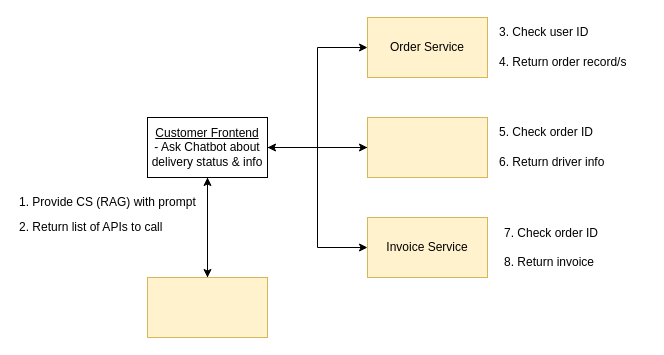
This 664x355 diagram has some shape labels left out. The centre of each missing label's shape, as x and y in pixels:
"Customer Support (RAG)" belongs at (x=207, y=307).
"Driver Service" belongs at (x=427, y=147).
